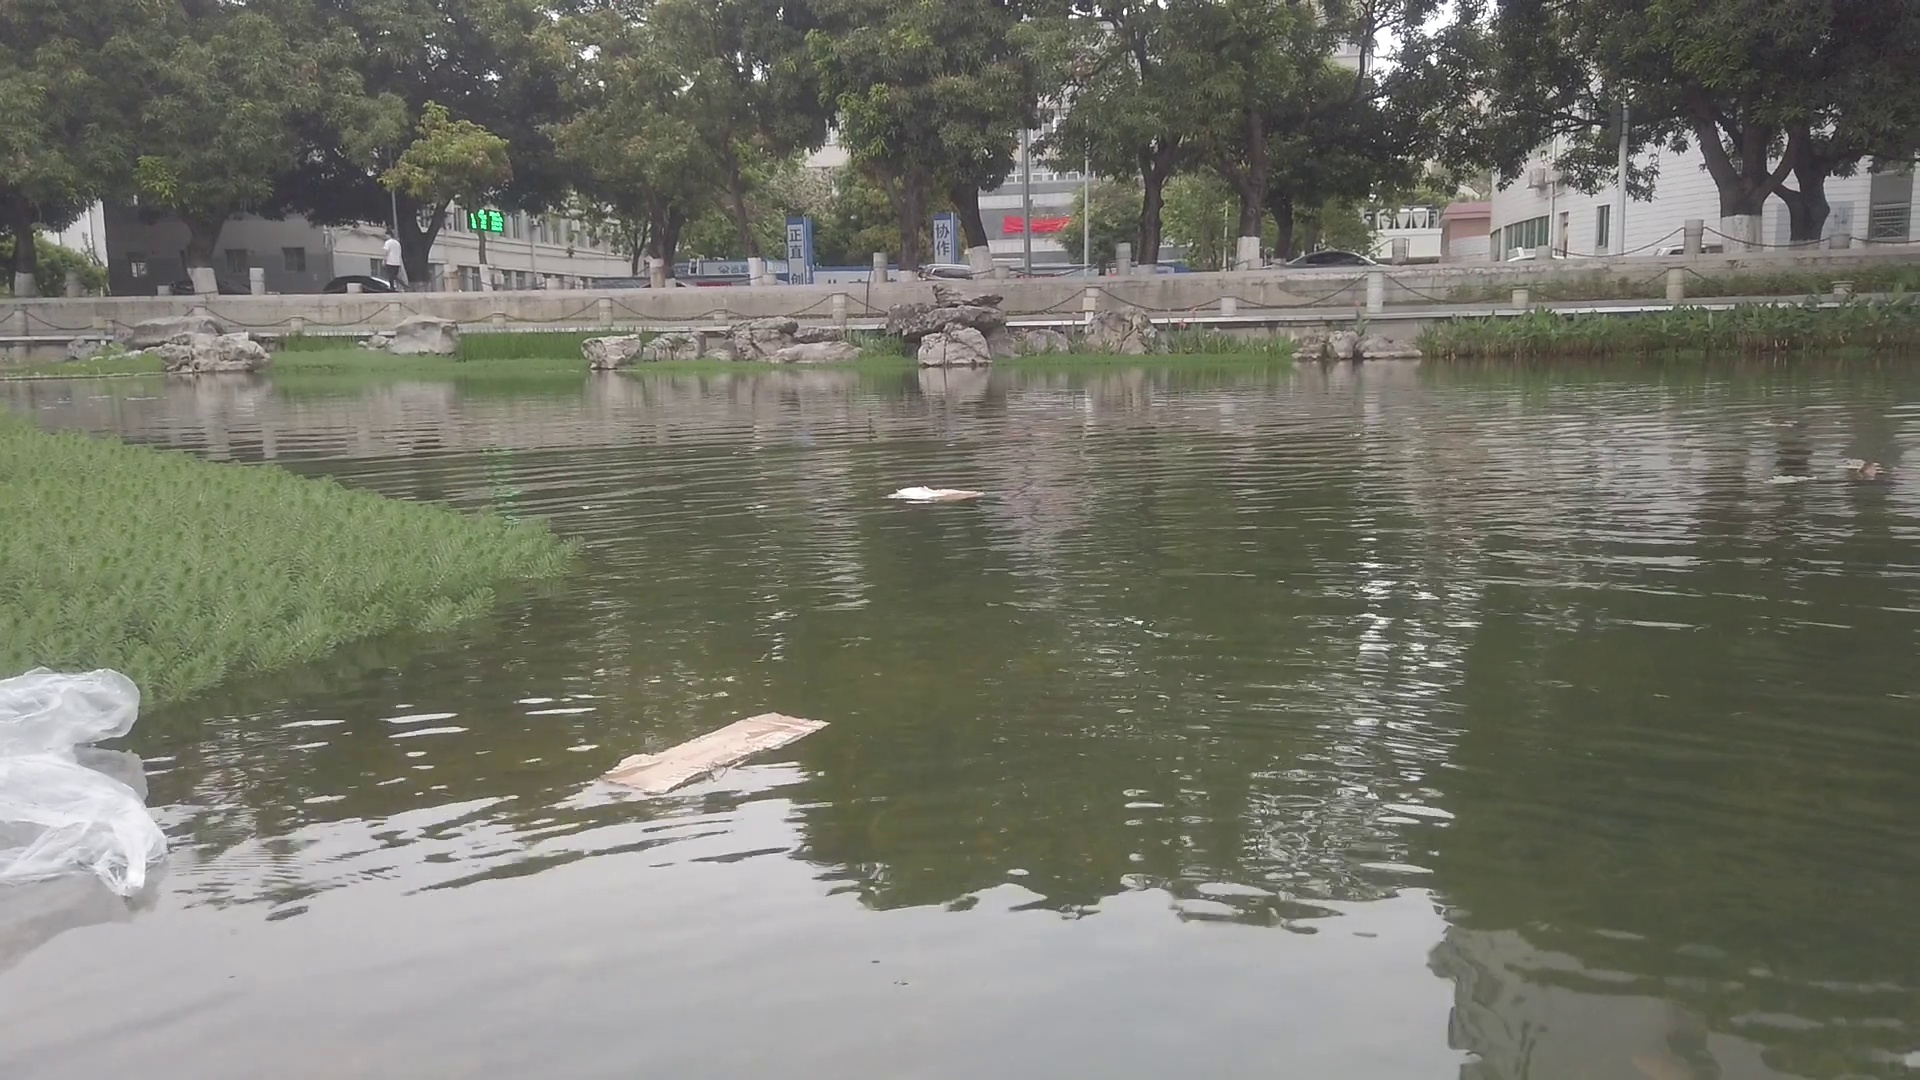paper: (609, 713, 829, 781), (890, 487, 985, 504)
plastic: (4, 750, 171, 889), (4, 670, 142, 740)
